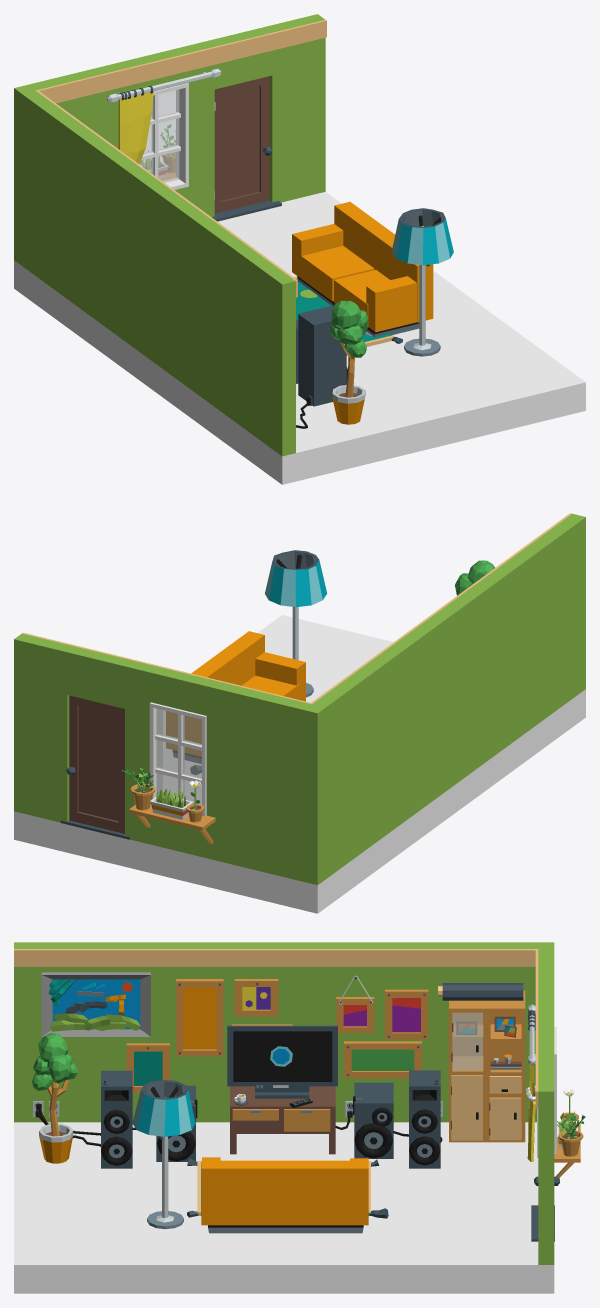
File: living_room.glb
3 views of the same model, one above another, from view 1: azimuth 30°, elevation 25°; view 2: azimuth 150°, elevation 25°; view 3: azimuth 270°, elevation 25° (orthographic).
Parts seen in each view (by area): view 1: group1087830502, group265941632, group878316936, group1778046054, group1702814703, group1158721303, group2131969357, group15764063, group773169476, group2037970008, group200242231; view 2: group1087830502, group878316936, group265941632, group1702814703, group1778046054, group2131969357, group1158721303, group1329124018, group2106700541, group1430211780, group773169476; view 3: group265941632, group1087830502, group1778046054, group1755818725, group1676509992, group235268298, group878316936, group1075457678, group1158721303, group709689000, group773169476, group15764063 (+17 smaller).
Boxes of the visible parts, left/top/right/bottom form: group1087830502: left=14, top=85, right=297, bottom=456; group265941632: left=14, top=192, right=585, bottom=484; group878316936: left=28, top=14, right=326, bottom=216; group1778046054: left=292, top=201, right=433, bottom=337; group1702814703: left=214, top=76, right=272, bottom=213; group1158721303: left=391, top=208, right=453, bottom=356; group2131969357: left=140, top=83, right=188, bottom=189; group15764063: left=298, top=306, right=347, bottom=406; group773169476: left=330, top=300, right=368, bottom=424; group2037970008: left=107, top=68, right=221, bottom=165; group200242231: left=293, top=276, right=402, bottom=346; group1087830502: left=304, top=513, right=585, bottom=885; group878316936: left=14, top=632, right=311, bottom=881; group265941632: left=14, top=615, right=585, bottom=913; group1702814703: left=66, top=695, right=124, bottom=833; group1778046054: left=166, top=631, right=305, bottom=763; group2131969357: left=149, top=702, right=206, bottom=816; group1158721303: left=265, top=550, right=327, bottom=697; group1329124018: left=129, top=804, right=215, bottom=844; group2106700541: left=150, top=788, right=193, bottom=819; group1430211780: left=121, top=768, right=155, bottom=810; group773169476: left=455, top=560, right=494, bottom=595; group265941632: left=14, top=1122, right=554, bottom=1293; group1087830502: left=14, top=942, right=554, bottom=1122; group1778046054: left=201, top=1157, right=368, bottom=1233; group1755818725: left=227, top=1025, right=337, bottom=1098; group1676509992: left=41, top=972, right=150, bottom=1036; group235268298: left=449, top=990, right=525, bottom=1142; group878316936: left=535, top=949, right=554, bottom=1264; group1075457678: left=230, top=1086, right=335, bottom=1154; group1158721303: left=132, top=1080, right=195, bottom=1229; group709689000: left=176, top=979, right=223, bottom=1056; group773169476: left=32, top=1033, right=77, bottom=1163; group15764063: left=101, top=1070, right=132, bottom=1168.
Size of the model in its own units: 2.68 by 1.69 by 4.34.
